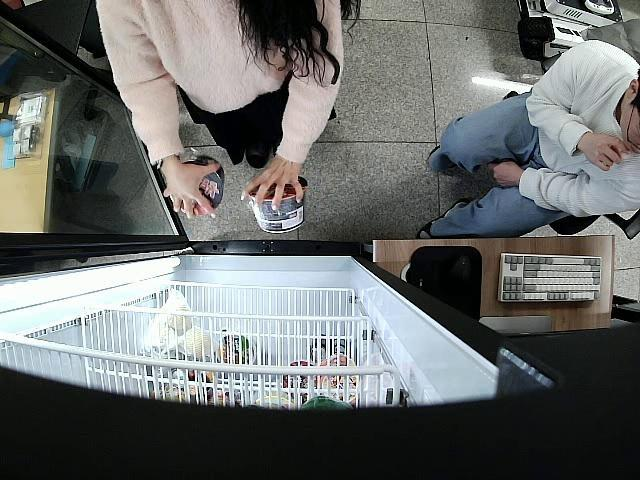07_buldak_L: (246, 174, 307, 235), (176, 148, 225, 216)
